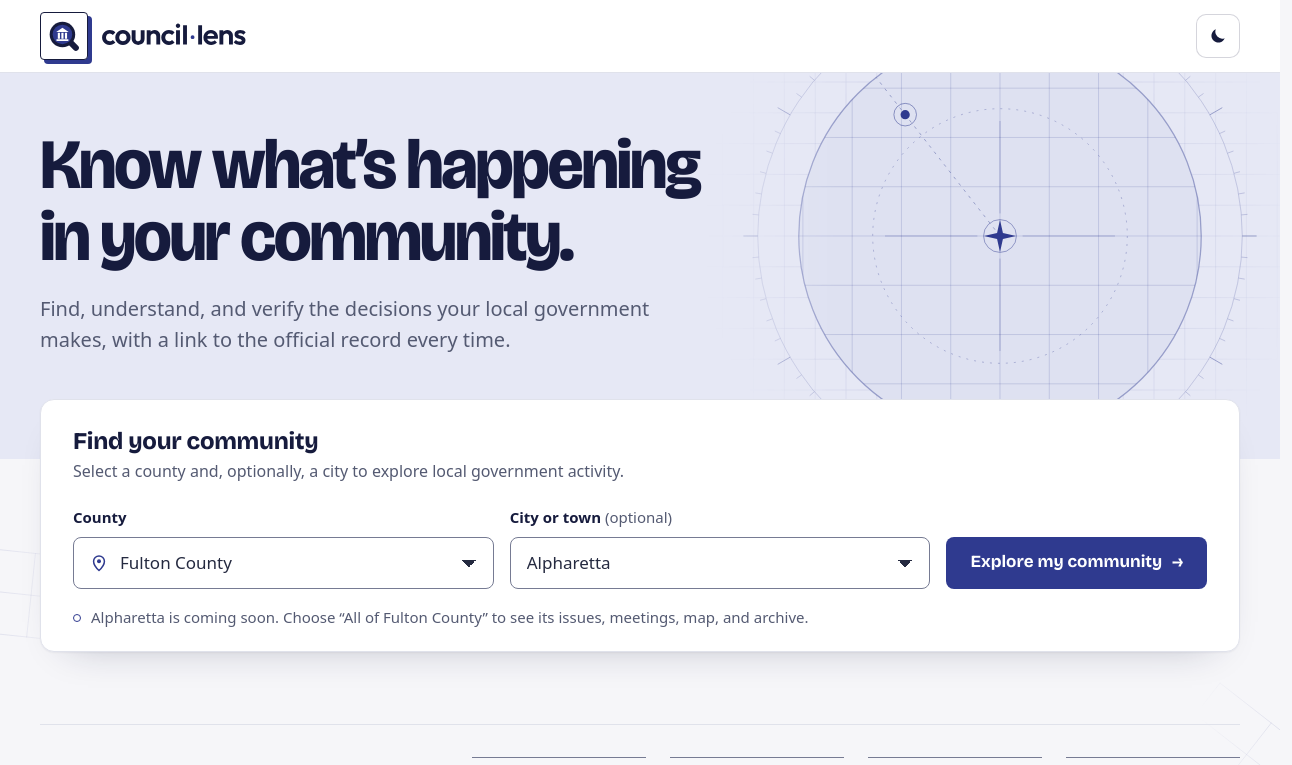
Test: Location chooser › clears the city when the county changes
This screenshot has width=1292, height=765.
Expected: the dropdown labelled "City or town (optional)" shows "Alpharetta", [510, 537, 930, 589]
Select "Cobb County" in the dropdown labelled "County" at (283, 563), box [73, 537, 494, 589]
(page scrolled)
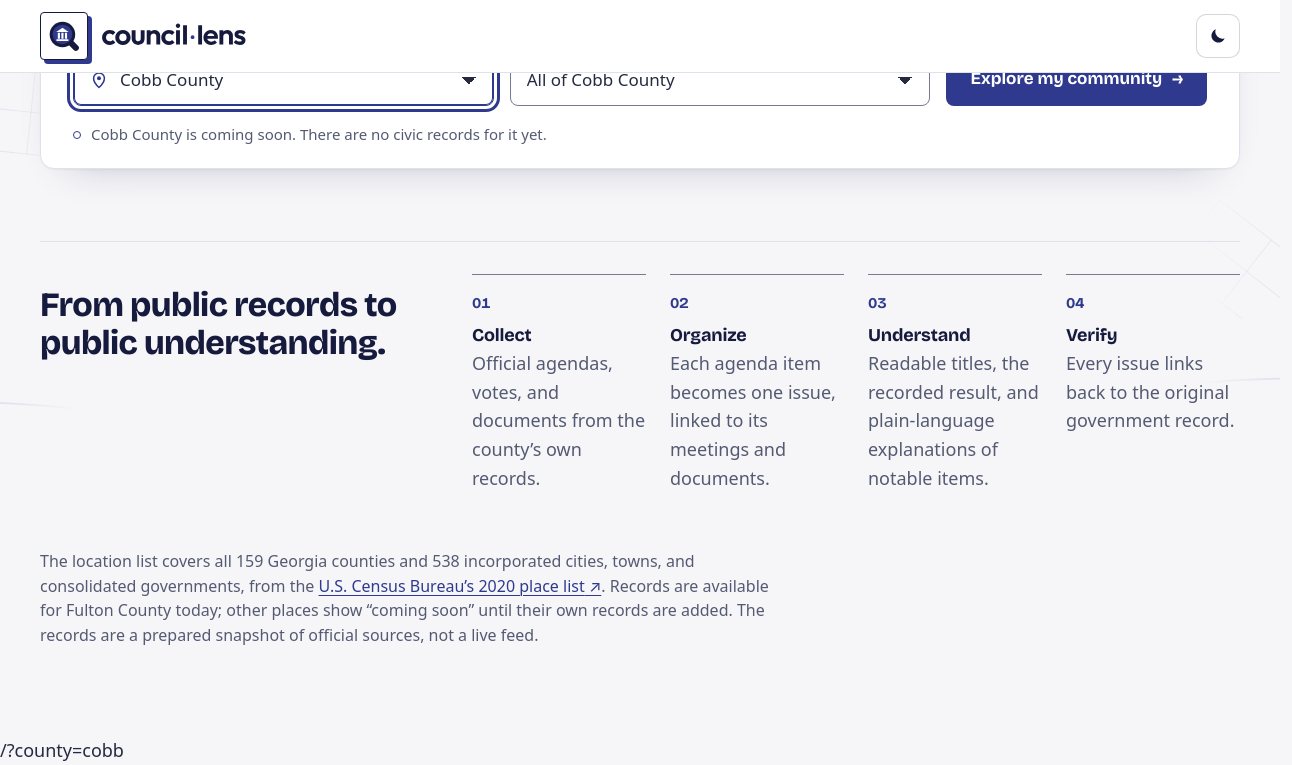
Now the dropdown labelled "City or town (optional)" shows "All of Cobb County", box [510, 54, 930, 106]
Now the text with test id "url" reads "/?county=cobb", box [0, 738, 124, 762]
